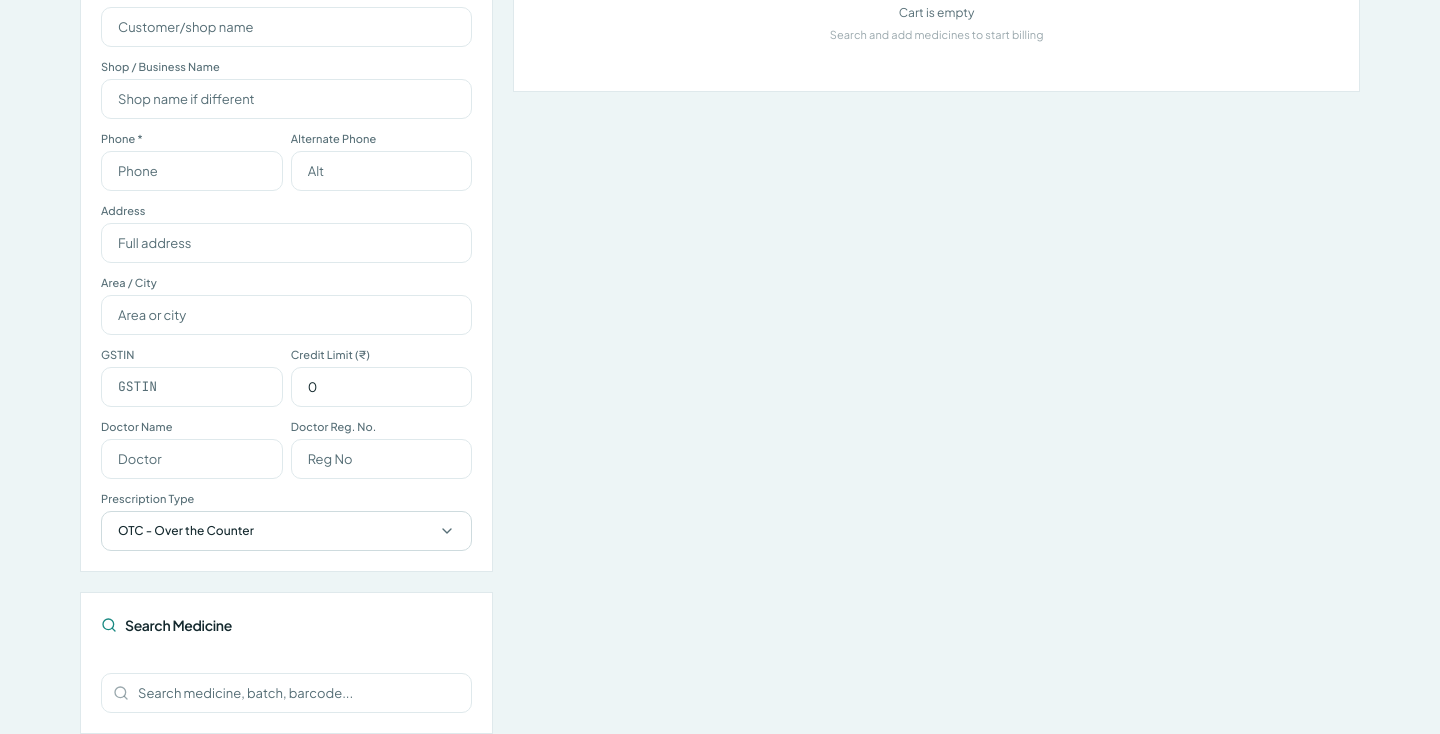
Test: Sales (POS) Component › Medicine Search & Cart › should show medicine suggestions when typing
(page scrolled)
In the field with placeholder "Search medicine, batch, barcode...": x=287, y=693 [101, 673, 472, 713], type "Para"
(page scrolled)
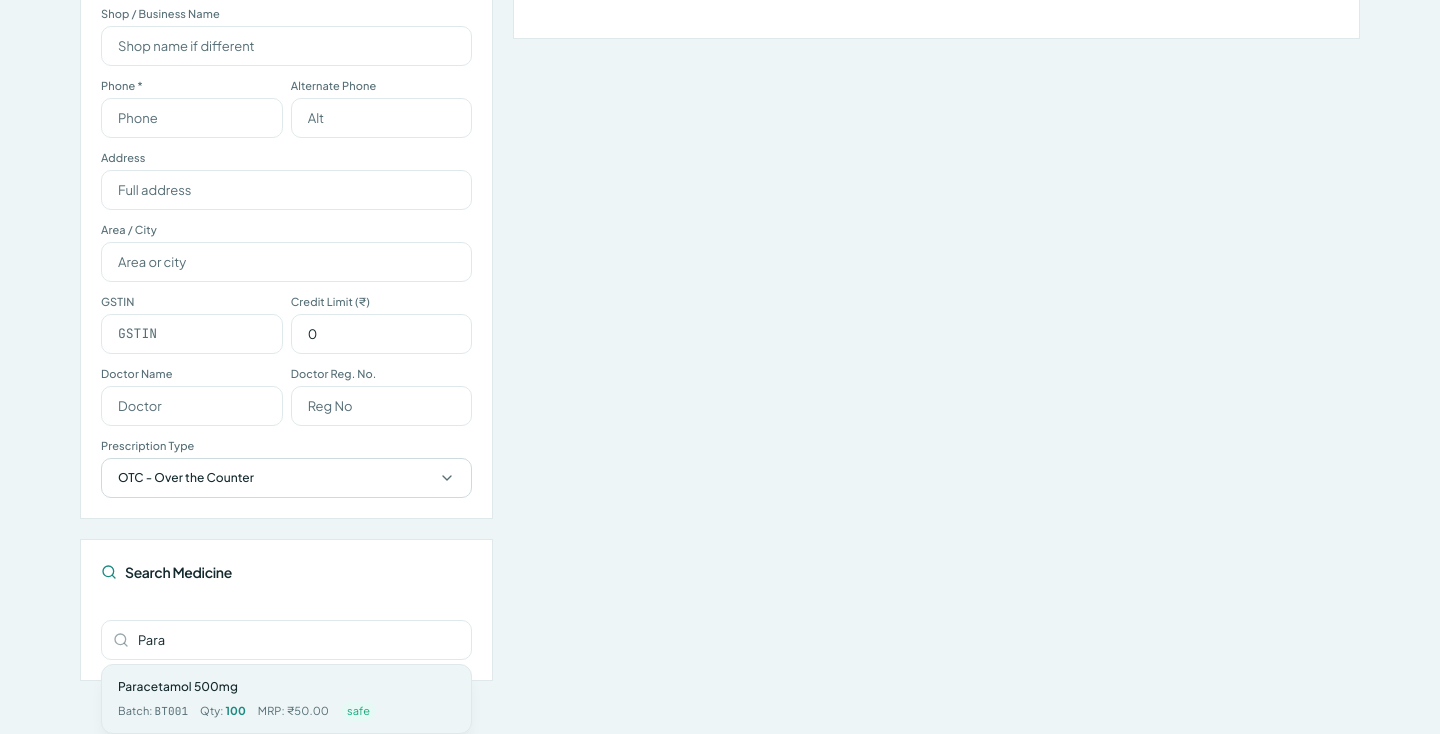
Expected: the text "Paracetamol 500mg" is shown, [118, 679, 238, 694]
